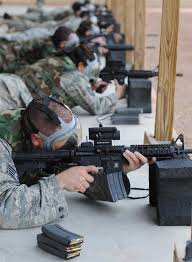gun: (5, 123, 191, 205), (93, 59, 183, 91)
